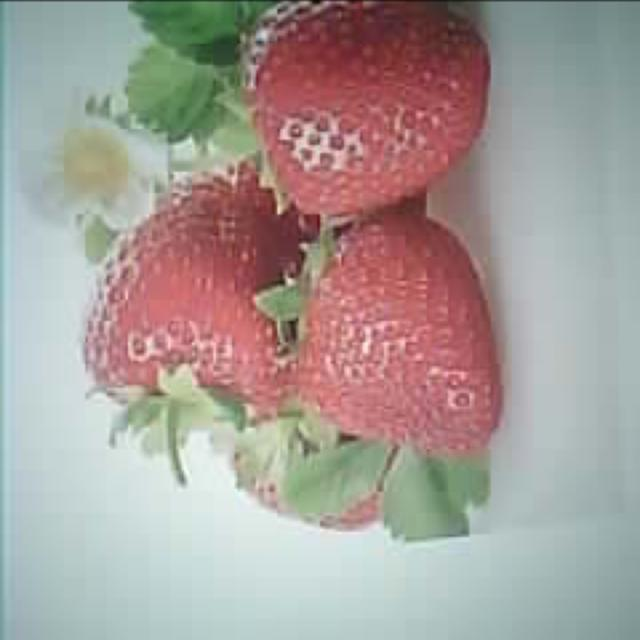ripe: (252, 5, 488, 216), (302, 217, 502, 454), (79, 185, 287, 407)
